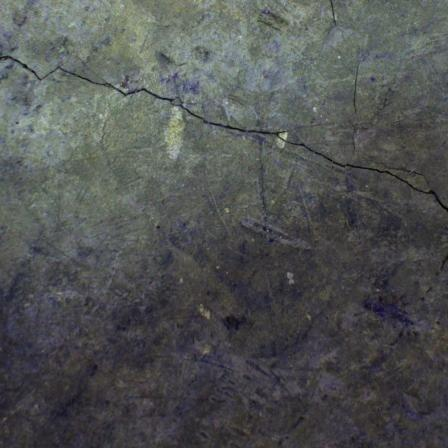crack: (0, 50, 448, 216), (344, 45, 363, 155), (319, 0, 347, 52)
